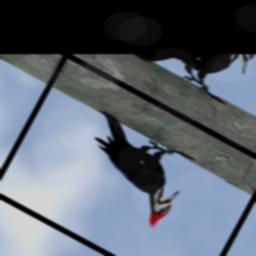Woodpecker: (62, 106, 199, 232)
